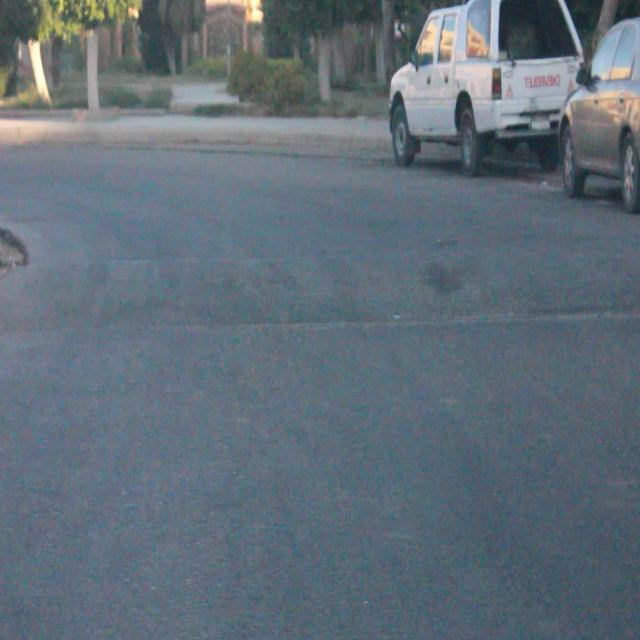NonMarked Bump: (32, 230, 633, 333)
